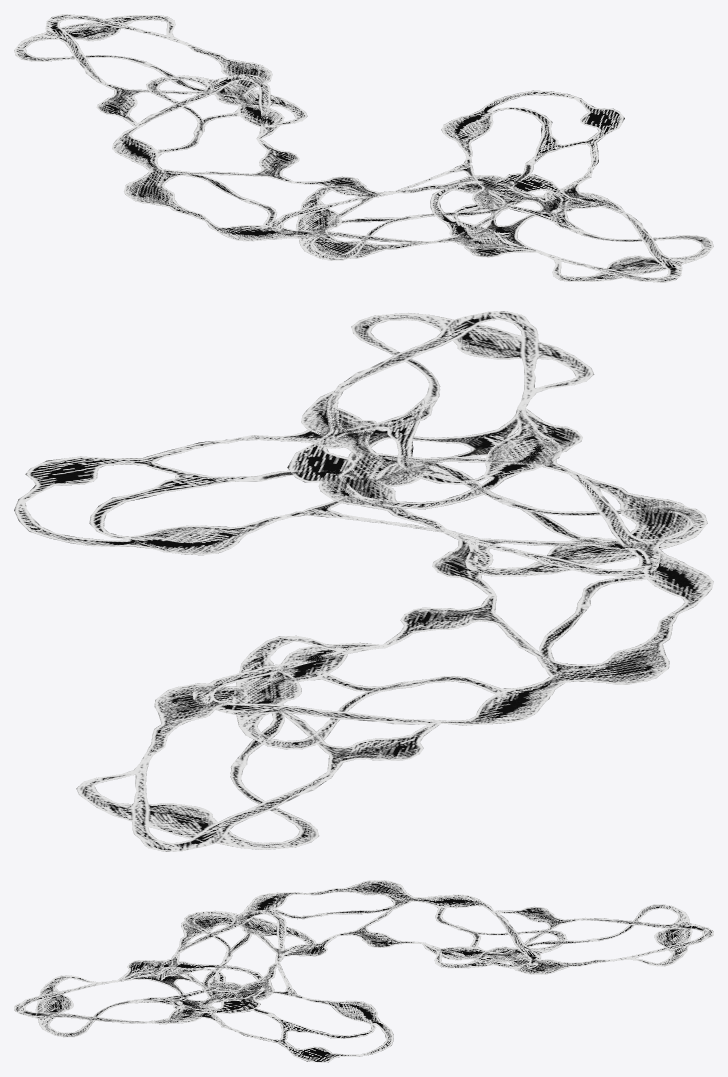
Rendered from fungalgreen.dae.
The picture shows the model from 3 angles, top to bottom: view 1: azimuth 30°, elevation 25°; view 2: azimuth 150°, elevation 25°; view 3: azimuth 270°, elevation 25°; orthographic projection. The views are drawn at different scales.
Parts seen in each view (by area): view 1: G3, G2, G4, G1; view 2: G3, G2, G4, G1; view 3: G3, G2, G4, G1.
Part boxes in pixels (x1=…): G3: x1=112, y1=74, x2=713, y2=281; G2: x1=269, y1=175, x2=713, y2=282; G4: x1=14, y1=14, x2=284, y2=138; G1: x1=430, y1=173, x2=712, y2=282; G3: x1=14, y1=313, x2=713, y2=749; G2: x1=301, y1=311, x2=707, y2=577; G4: x1=76, y1=642, x2=441, y2=851; G1: x1=287, y1=311, x2=593, y2=509; G3: x1=31, y1=880, x2=567, y2=1062; G2: x1=14, y1=910, x2=316, y2=1036; G4: x1=422, y1=904, x2=713, y2=974; G1: x1=14, y1=960, x2=265, y2=1037.
Bounding box in the file's own units: 1.55 × 0 × 2.51.
Materials: 1 (1 with a texture image).
